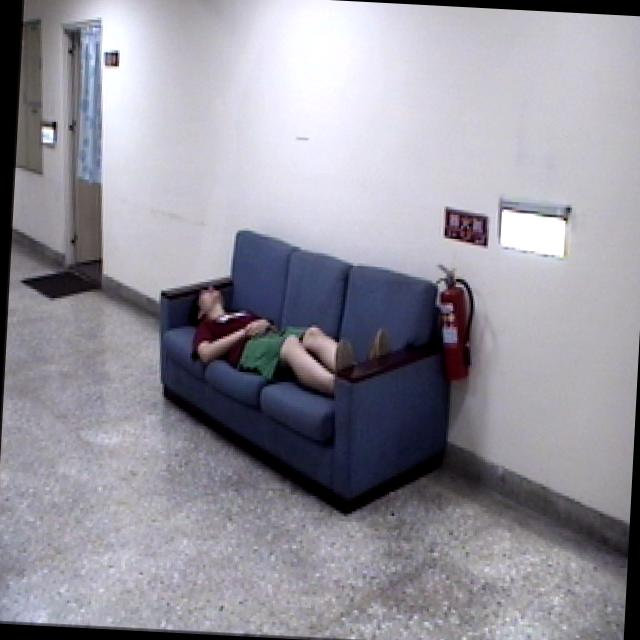lie: (185, 276, 406, 401)
